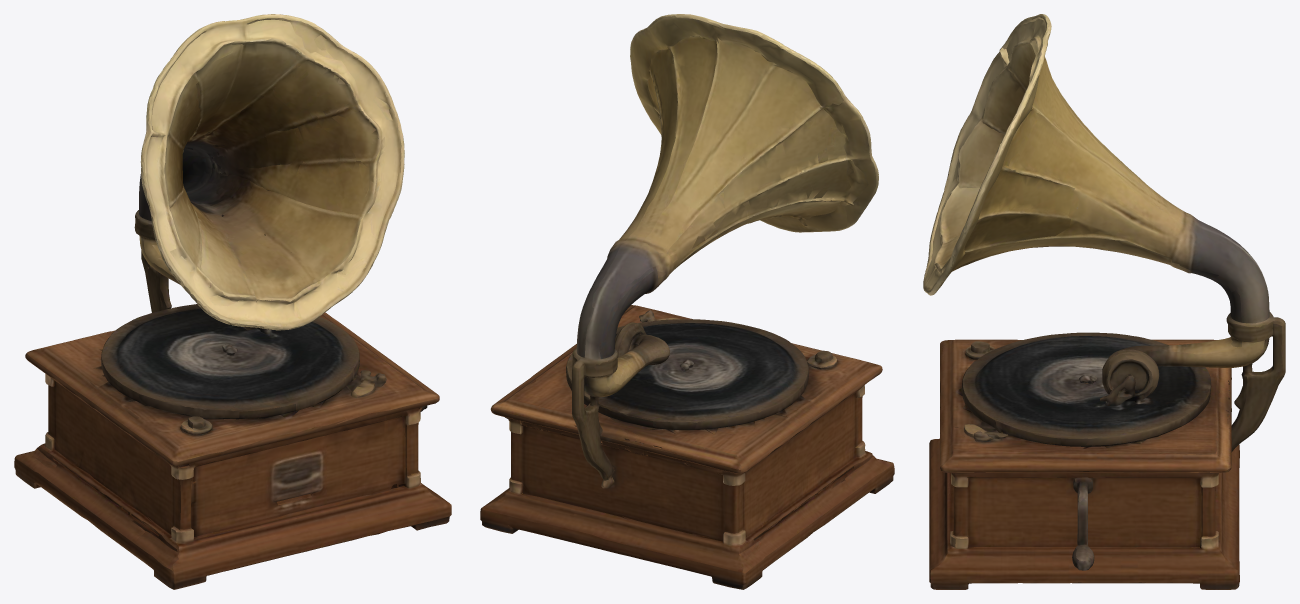
File: parts.glb
The picture shows the model from 3 angles, left to right: view 1: azimuth 30°, elevation 25°; view 2: azimuth 150°, elevation 25°; view 3: azimuth 270°, elevation 25°; orthographic projection. The views are drawn at different scales.
Bounding box in the file's own units: 0.3645 × 0.52 × 0.3524.
Materials: 5 (5 with a texture image).
